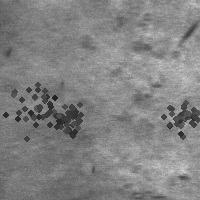rolled-in_scale: (0, 69, 70, 141), (126, 8, 181, 58), (39, 90, 91, 142), (117, 77, 166, 127), (123, 165, 193, 199), (157, 89, 200, 139)
